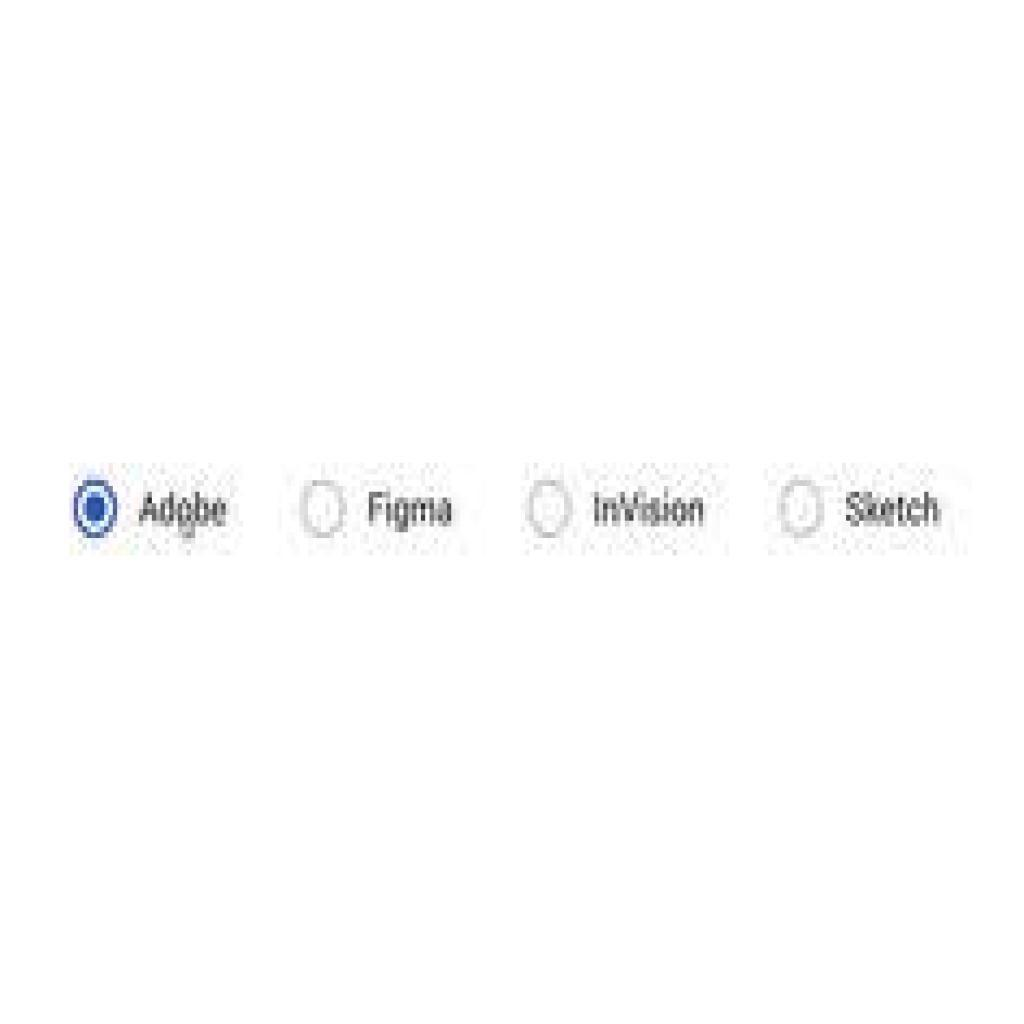radio: (522, 473, 578, 542), (71, 474, 122, 544), (775, 474, 826, 538), (301, 476, 351, 537)
